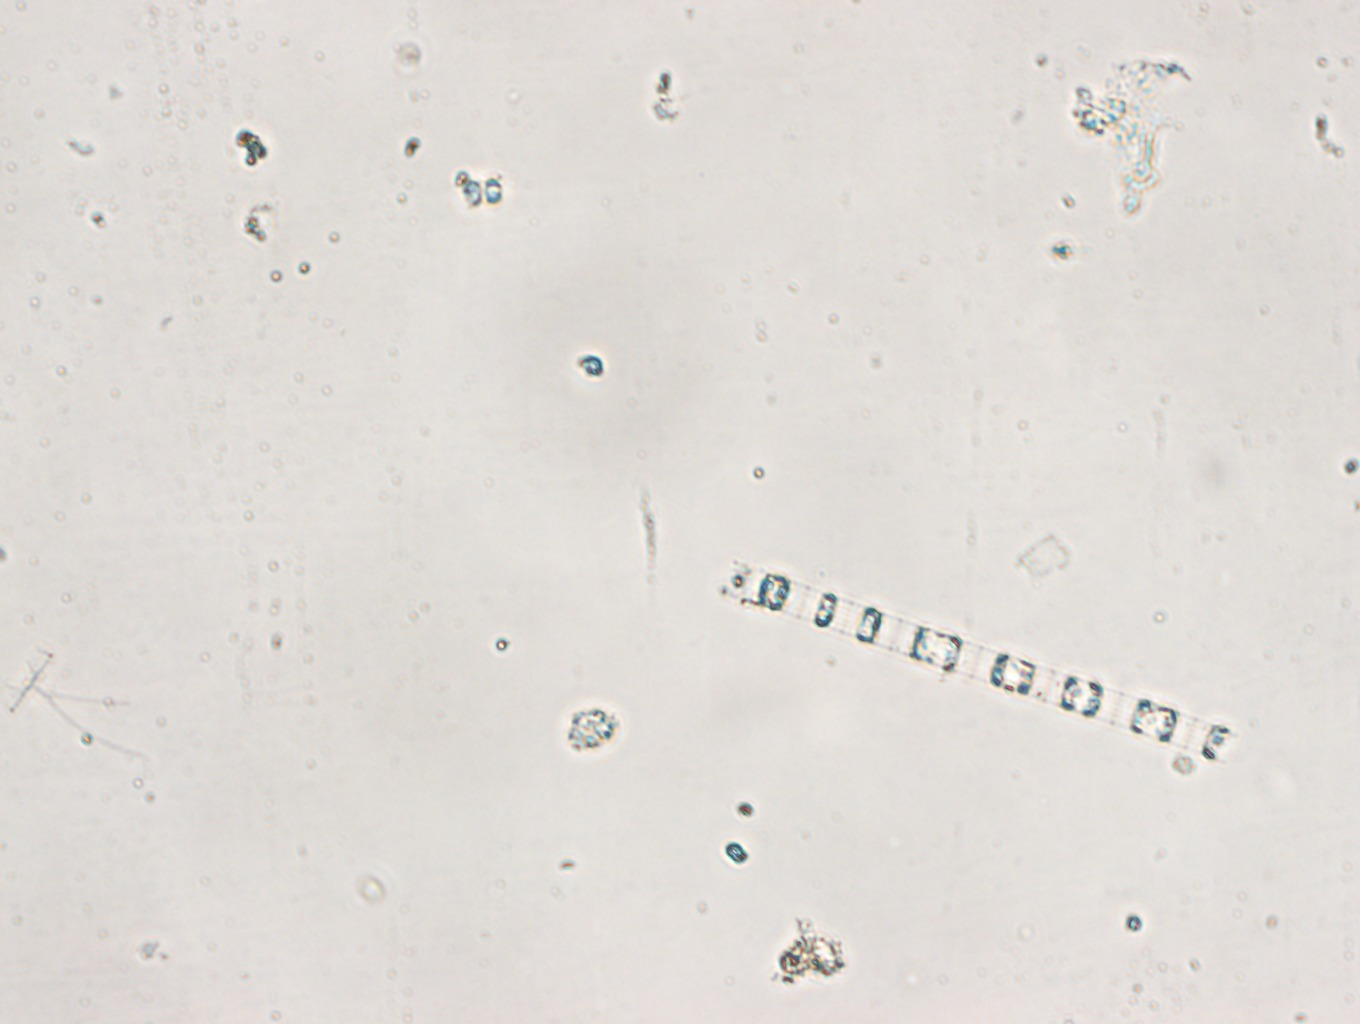skeletonema: (713, 558, 1243, 766)
